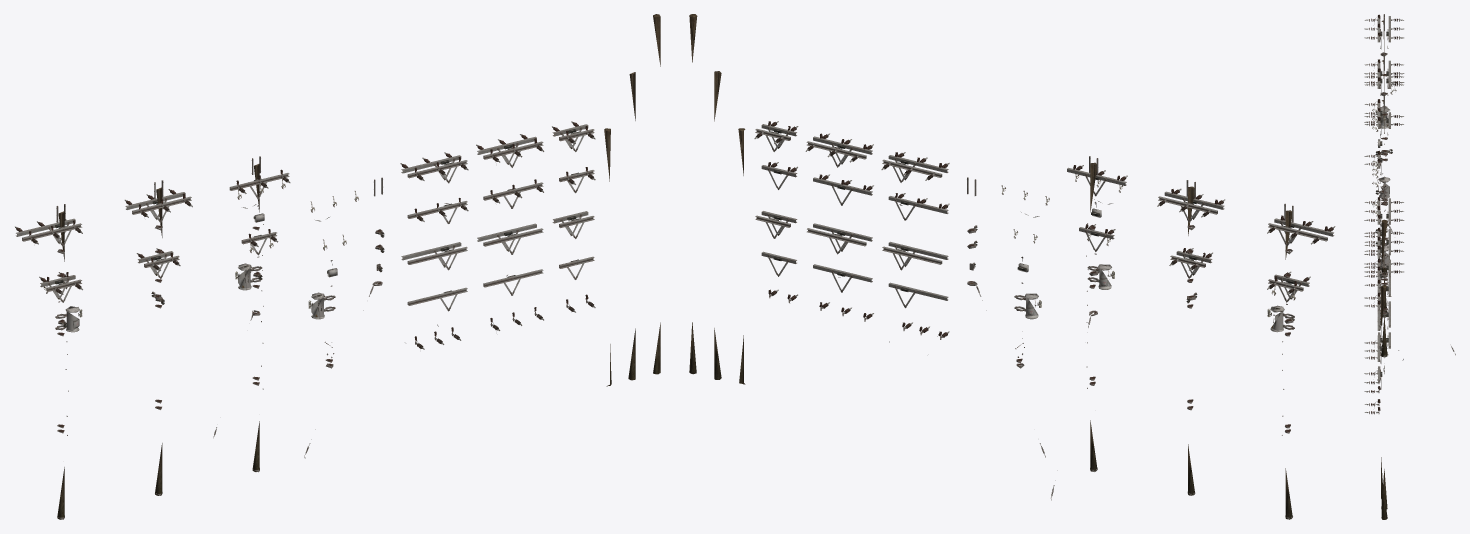
Rendered from modular_electricity_poles.lite.glb.
3 renders of one model, left to right at view 1: azimuth 30°, elevation 25°; view 2: azimuth 150°, elevation 25°; view 3: azimuth 270°, elevation 25°, orthographic. The views are drawn at different scales.
Parts seen in each view (by area): view 1: bolt_large, pole; view 2: bolt_large, pole; view 3: bolt_large, pole.
Part boxes in pixels (x1=…): bolt_large: x1=15, y1=121, x2=595, y2=519; pole: x1=57, y1=14, x2=660, y2=519; bolt_large: x1=754, y1=121, x2=1335, y2=519; pole: x1=689, y1=14, x2=1292, y2=519; bolt_large: x1=1364, y1=14, x2=1455, y2=414; pole: x1=1381, y1=20, x2=1387, y2=519.
Size of the model in its own units: 13.11 by 7 by 1.94.
2 materials, 2 textured.
